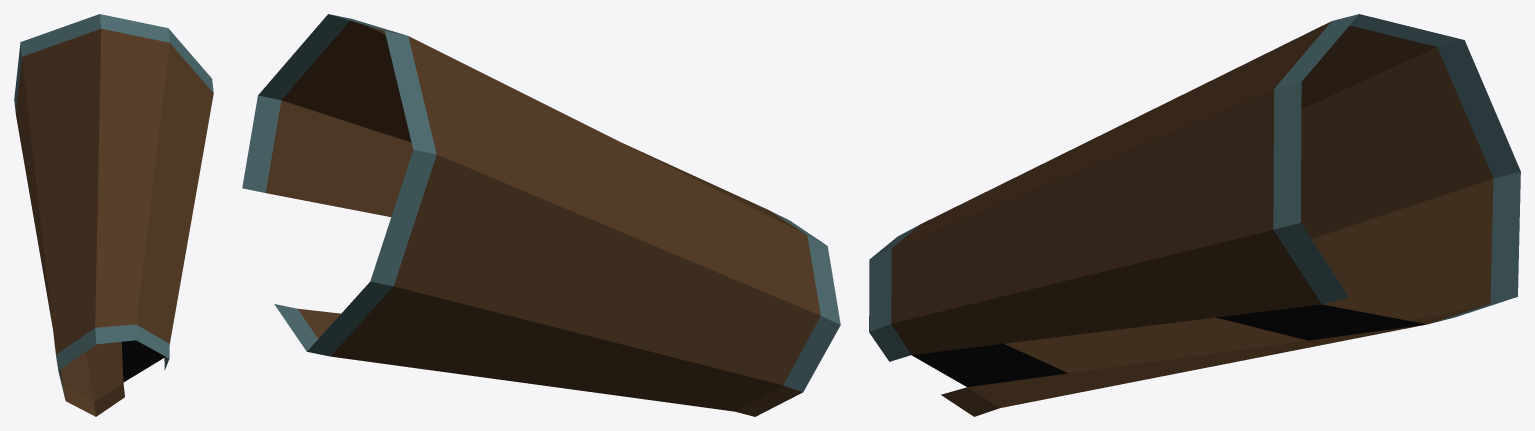
File: leather_rglove_obj.fbx
3 renders of one model, left to right at view 1: azimuth 30°, elevation 25°; view 2: azimuth 150°, elevation 25°; view 3: azimuth 270°, elevation 25°, orthographic. The views are drawn at different scales.
Visible parts, largest first — view 1: Rglove; view 2: Rglove; view 3: Rglove.
Boxes of the visible parts, <box> form: Rglove: <box>14,14,213,416</box>; Rglove: <box>242,14,840,416</box>; Rglove: <box>869,14,1520,416</box>.
Size of the model in its own units: 133 by 145 by 171.
